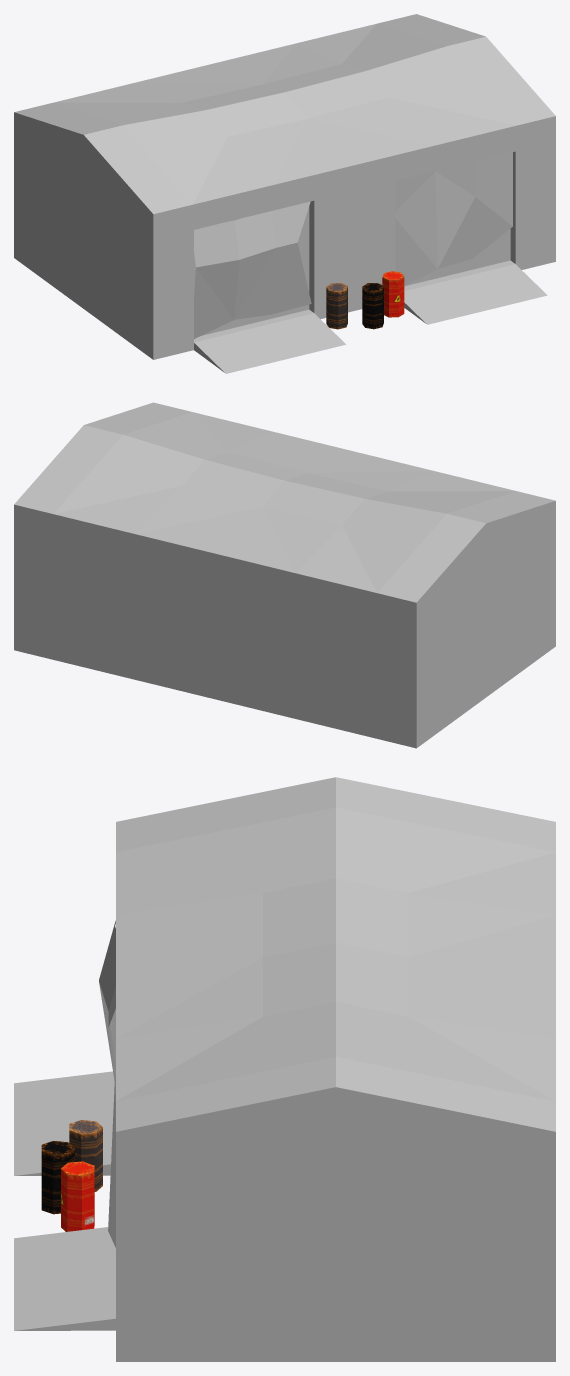
Rendered from oldWarehouse.fbx.
The picture shows the model from 3 angles, top to bottom: view 1: azimuth 30°, elevation 25°; view 2: azimuth 150°, elevation 25°; view 3: azimuth 270°, elevation 25°; orthographic projection. The views are drawn at different scales.
Parts seen in each view (by area): view 1: oldWarehouse, gate_Opacity, Barrel2.001, Barrel.001, Flammable_barrel.001; view 2: oldWarehouse; view 3: oldWarehouse, gate_Opacity, Flammable_barrel.001, Barrel.001, Barrel2.001.
Part boxes in pixels (left/top/right/bottom): oldWarehouse: left=14, top=14, right=555, bottom=373; gate_Opacity: left=193, top=152, right=512, bottom=338; Barrel2.001: left=326, top=283, right=347, bottom=329; Barrel.001: left=362, top=283, right=383, bottom=329; Flammable_barrel.001: left=382, top=271, right=404, bottom=317; oldWarehouse: left=14, top=402, right=555, bottom=748; oldWarehouse: left=14, top=777, right=555, bottom=1361; gate_Opacity: left=99, top=920, right=115, bottom=1247; Flammable_barrel.001: left=61, top=1161, right=94, bottom=1231; Barrel.001: left=41, top=1141, right=74, bottom=1214; Barrel2.001: left=69, top=1120, right=102, bottom=1191.
Size of what is drawn, in the model's own units: 1000 by 414 by 739.
